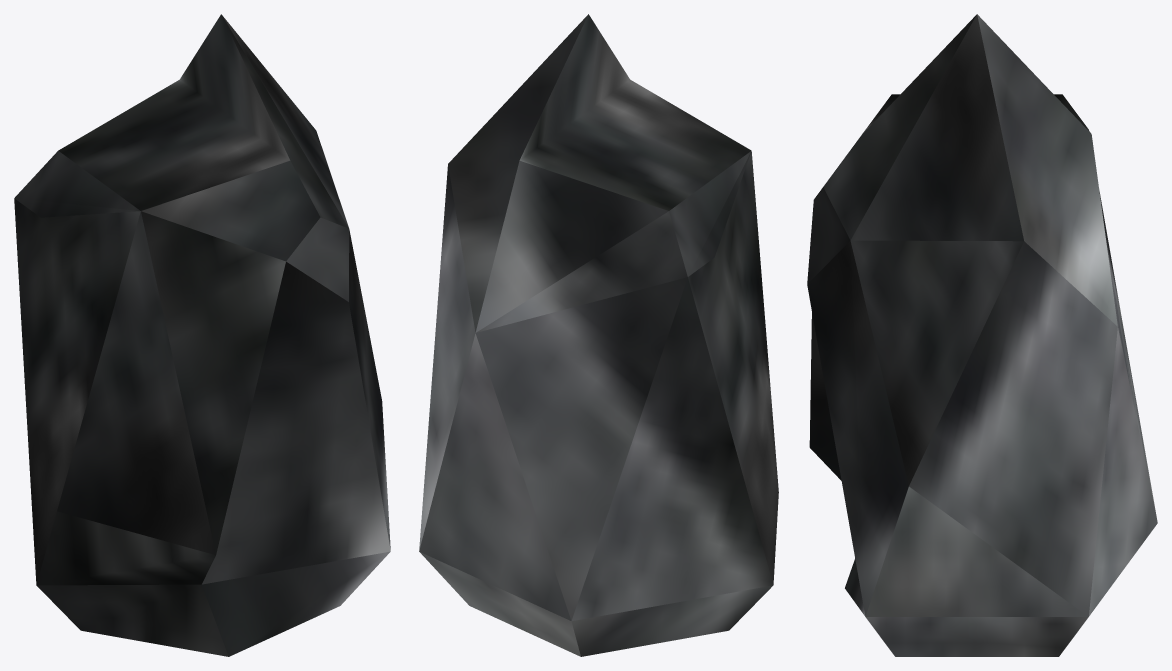
Rendered from Rock_v4.fbx.
3 renders of one model, left to right at view 1: azimuth 30°, elevation 25°; view 2: azimuth 150°, elevation 25°; view 3: azimuth 270°, elevation 25°, orthographic. The views are drawn at different scales.
Visible parts, largest first — view 1: Rock4; view 2: Rock4; view 3: Rock4.
Boxes of the visible parts, x1,y1,x2,y2 form: Rock4: (14, 14, 390, 656); Rock4: (419, 14, 778, 656); Rock4: (807, 14, 1157, 656).
Size of the model in its own units: 86.13 by 153 by 80.78.
